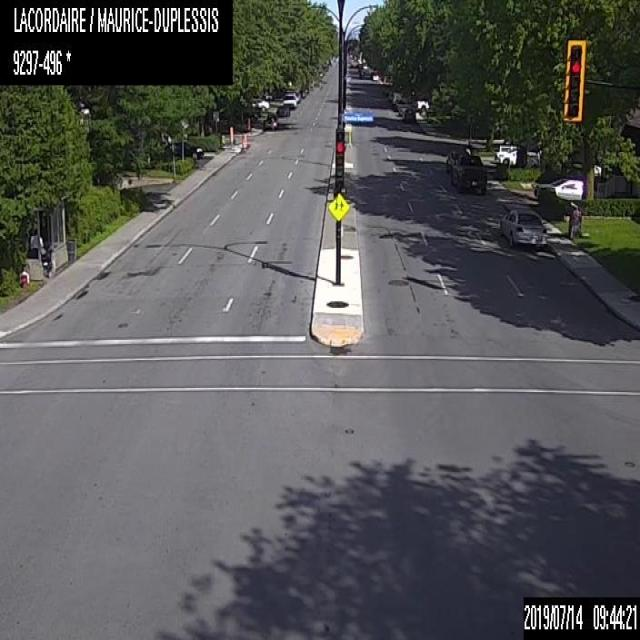construction: (228, 125, 234, 143), (240, 134, 246, 150), (246, 117, 250, 131)
pedestrian: (29, 226, 43, 266)
vehicle: (499, 206, 547, 246), (450, 152, 488, 194), (534, 177, 602, 200), (497, 149, 541, 166), (165, 141, 203, 159), (445, 148, 469, 174), (261, 111, 278, 129), (250, 97, 269, 110), (402, 108, 415, 123), (284, 92, 296, 107), (276, 104, 290, 115), (370, 71, 379, 81), (295, 90, 300, 102)
